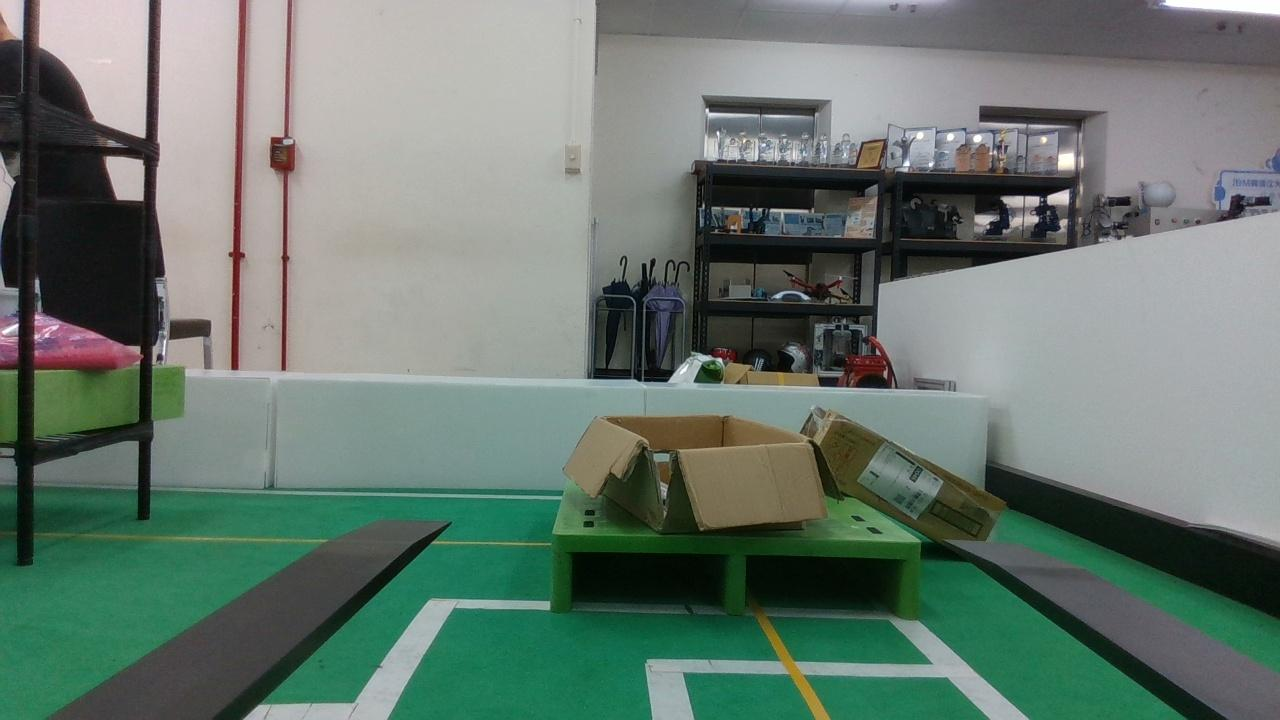Pallet: (545, 525, 926, 621)
